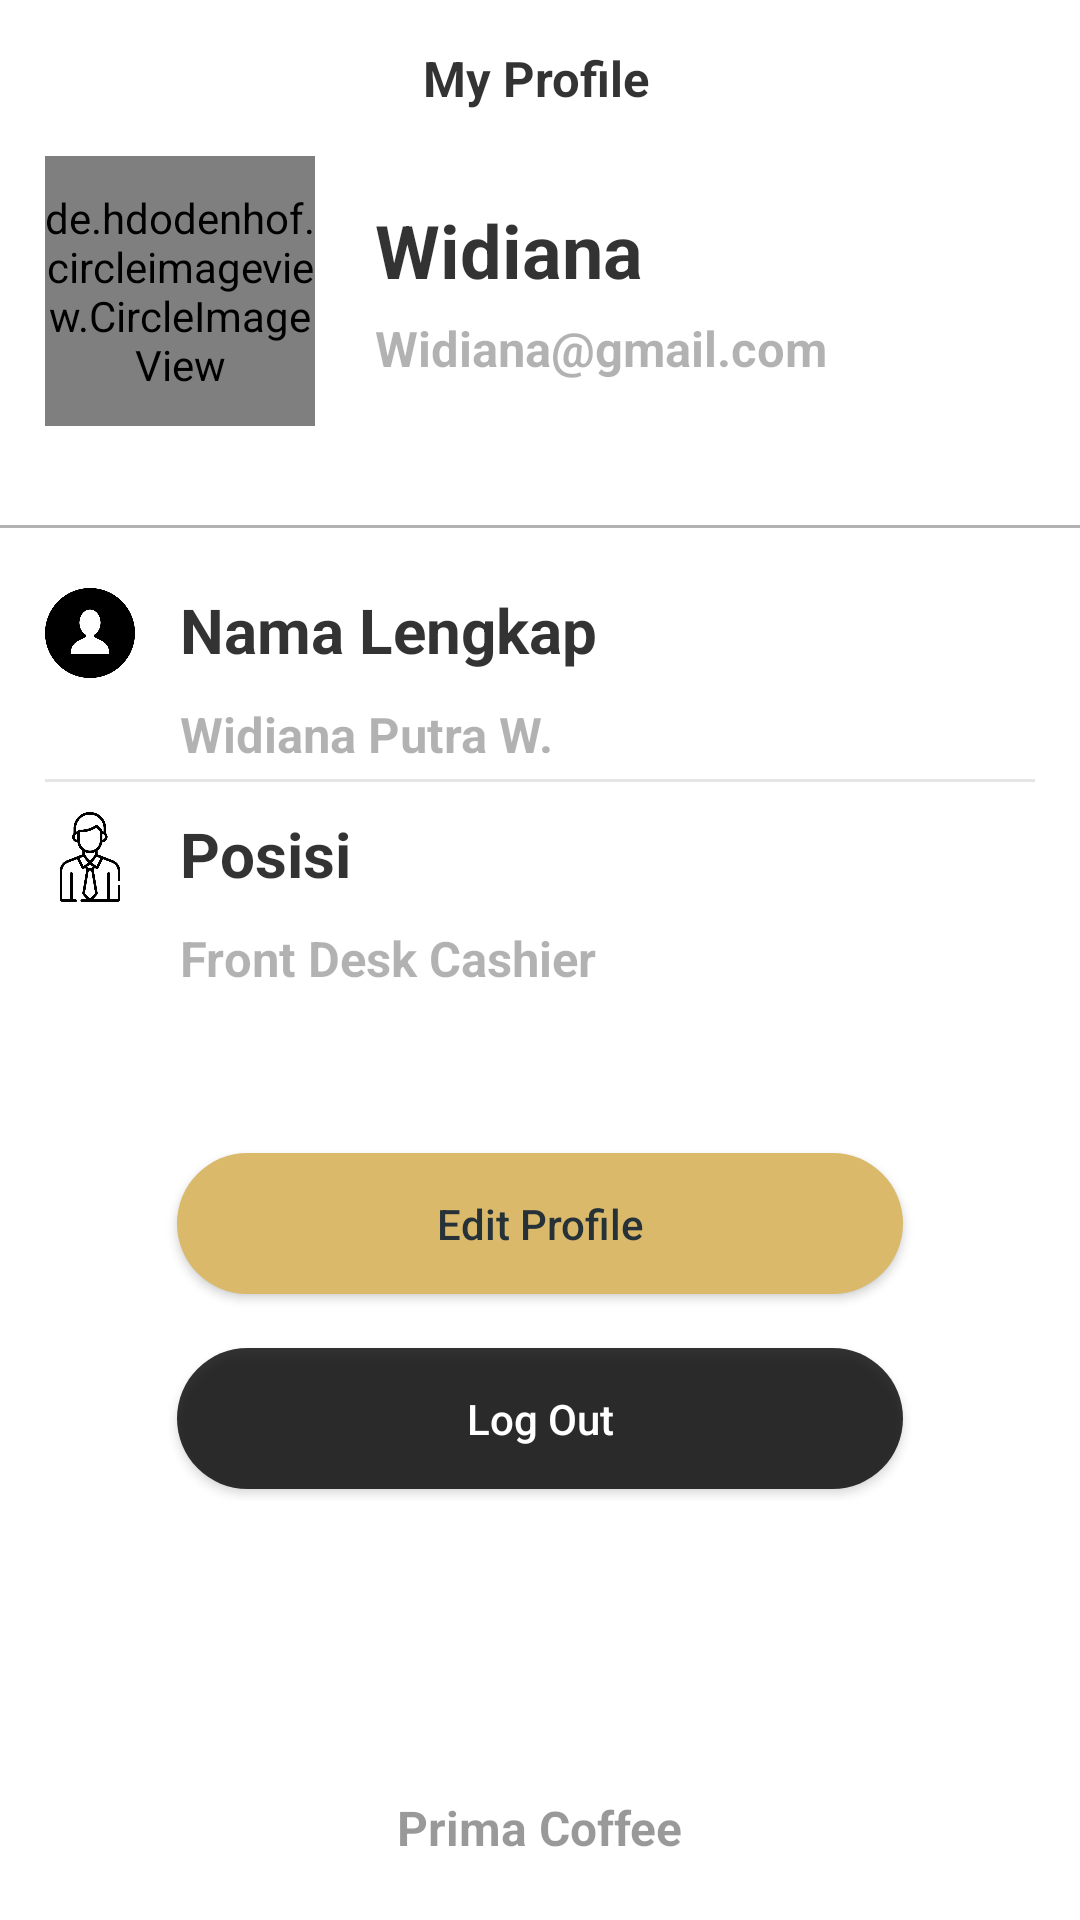

Named icons in this screenshot (1080x1920) and their centers, point (x, y):
employee: point (90, 857)
user: point (90, 633)
